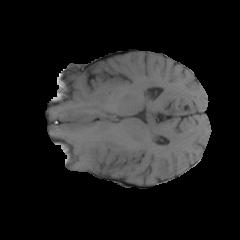glioma: (88, 139, 125, 172)
